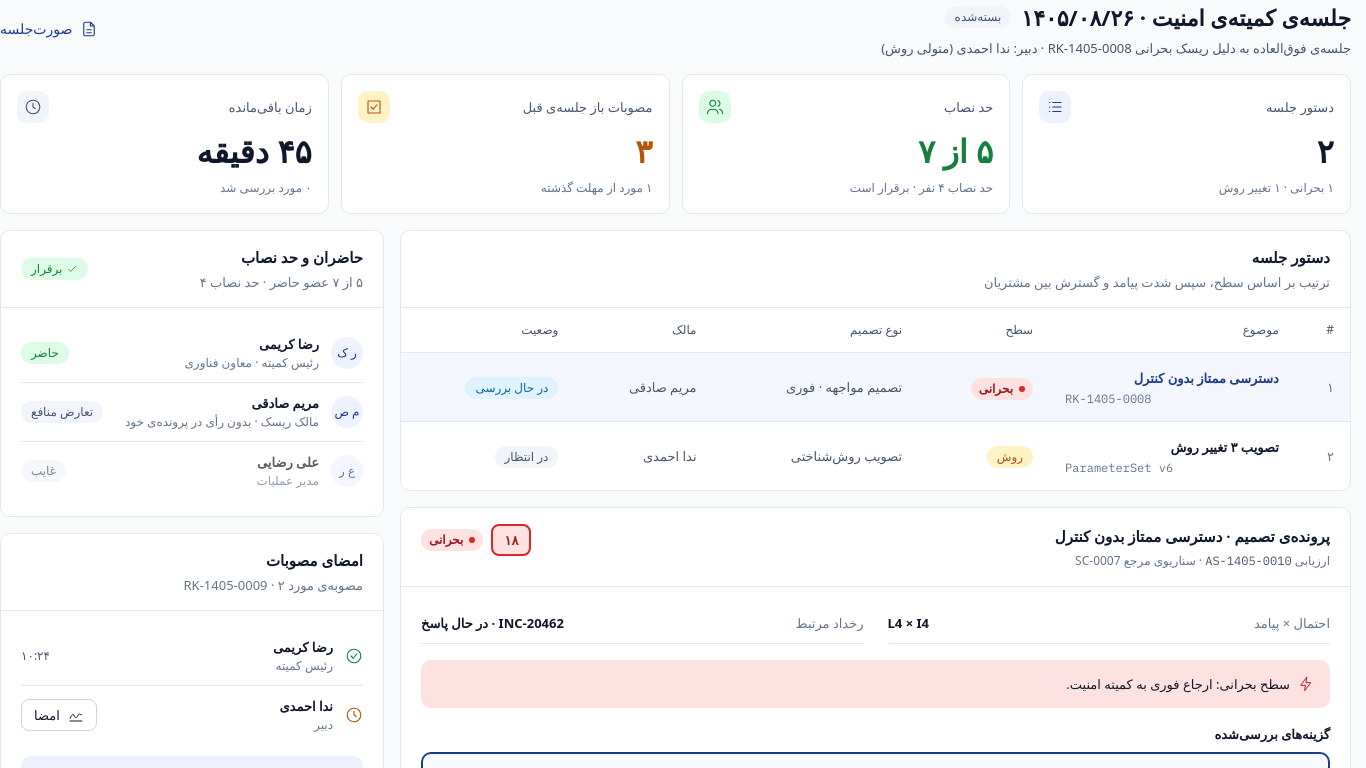
Test case: CommitteePage › hides running controls from viewers and shows a closed meeting's minutes
Check: the heading "جلسه‌ی کمیته‌ی امنیت · ۱۴۰۵/۰۸/۲۶" is shown, box [1021,0,1351,34]
What coordinates should you click on to do the following:
click the button "صورت‌جلسه"
I would click on:
 (49, 29)
Its box is [0,17,98,41].
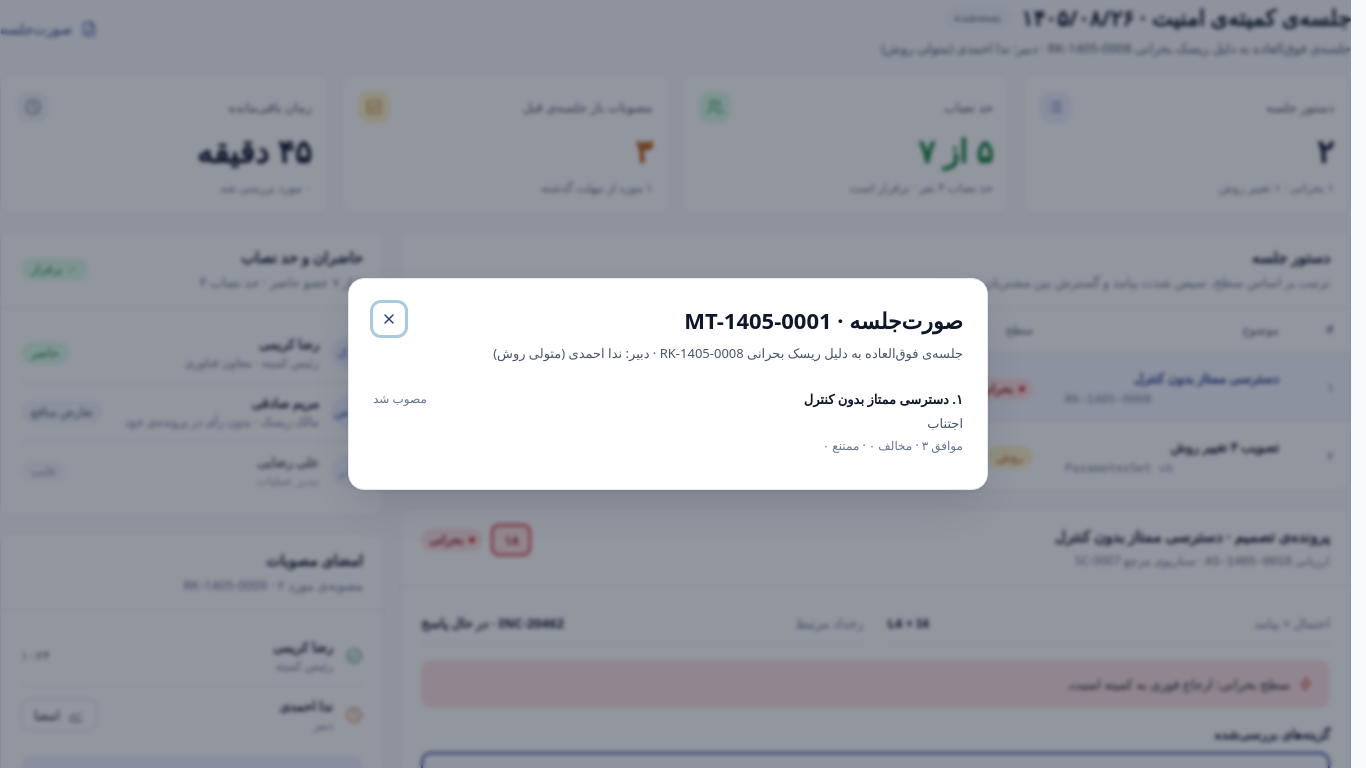
Check: the dialog shows "موافق ۳ · مخالف ۰ · ممتنع ۰", box [348,278,988,490]
